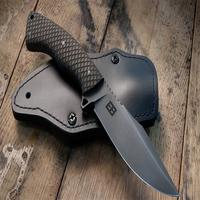knife: (28, 9, 182, 199)
